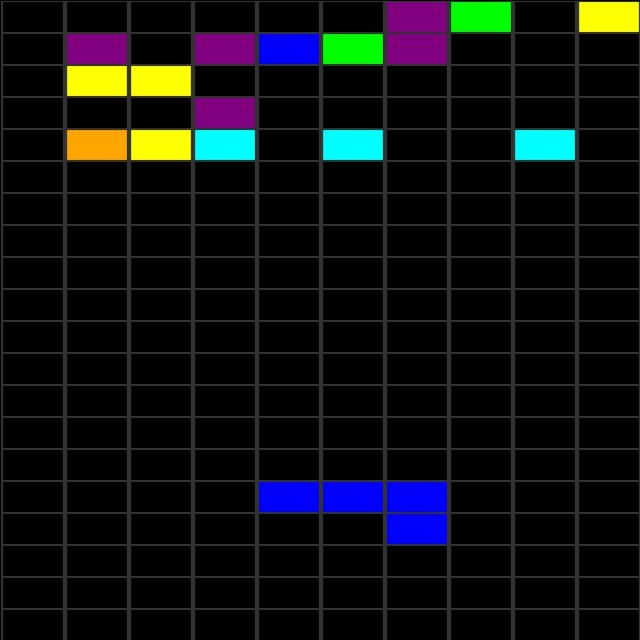Tetrimino_S: (254, 480, 446, 544)
